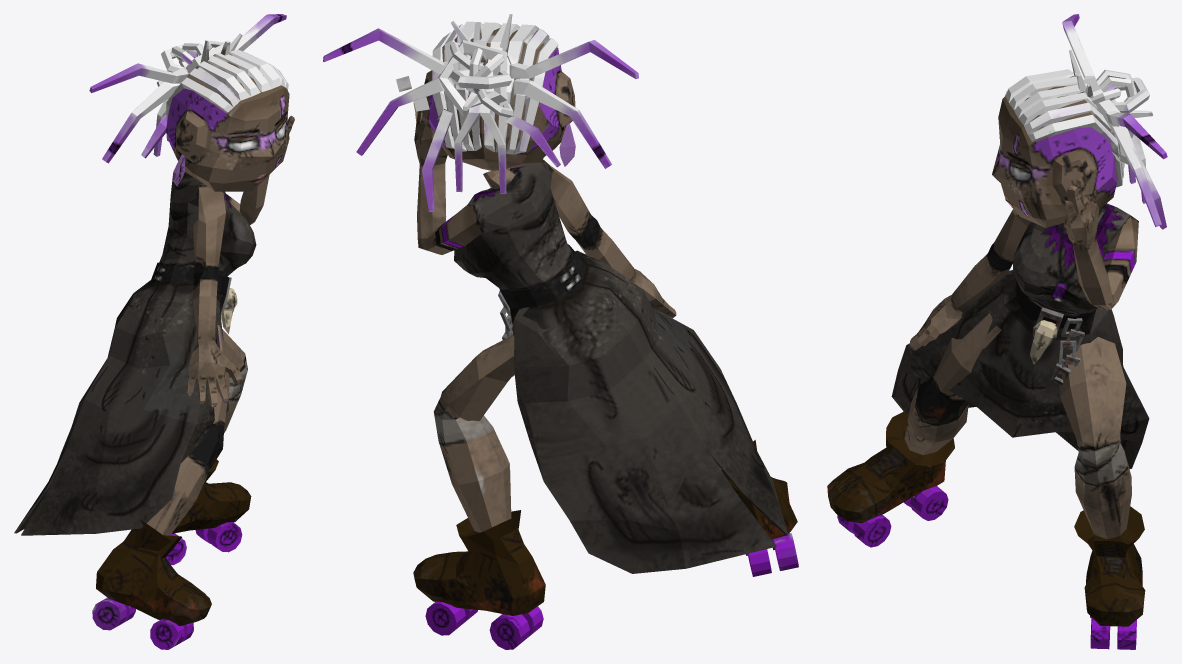
Rendered from bruja_000002.obj.
The picture shows the model from 3 angles, left to right: view 1: azimuth 30°, elevation 25°; view 2: azimuth 150°, elevation 25°; view 3: azimuth 270°, elevation 25°; orthographic projection. The views are drawn at different scales.
Visible parts, largest first — view 1: Bruja_Plane.001; view 2: Bruja_Plane.001; view 3: Bruja_Plane.001.
Boxes of the visible parts, left/top/right/bottom form: Bruja_Plane.001: left=14, top=14, right=294, bottom=649; Bruja_Plane.001: left=323, top=14, right=798, bottom=649; Bruja_Plane.001: left=827, top=14, right=1167, bottom=649.
Size of the model in its own units: 10.21 by 15.35 by 8.14.
